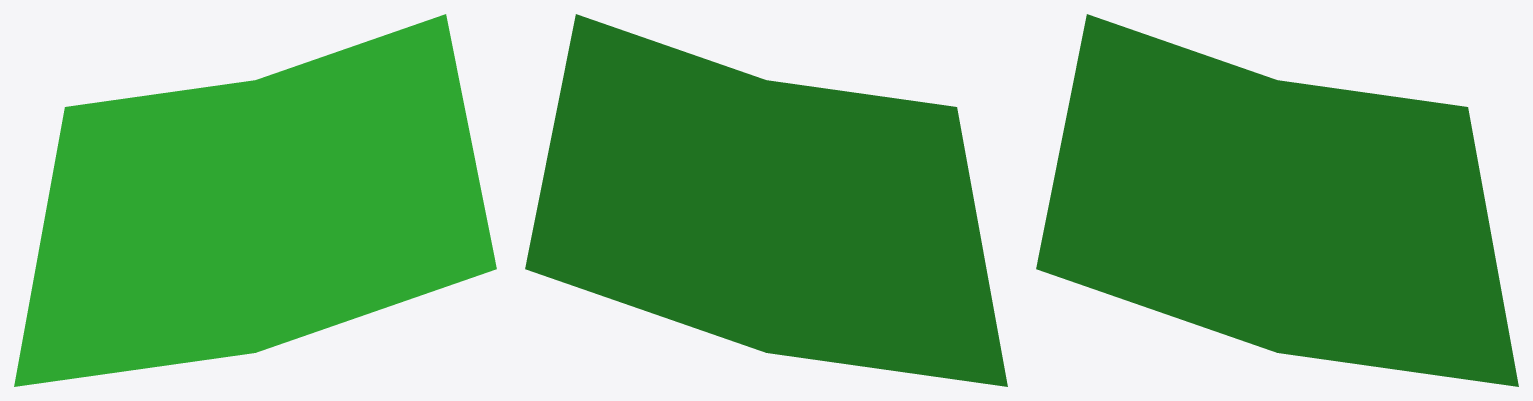
Rendered from Penalty_Short1.fbx.
The picture shows the model from 3 angles, left to right: view 1: azimuth 30°, elevation 25°; view 2: azimuth 150°, elevation 25°; view 3: azimuth 330°, elevation 25°; orthographic projection.
Parts seen in each view (by area): view 1: Cylinder; view 2: Cylinder; view 3: Cylinder.
Part boxes in pixels (x1=…): Cylinder: x1=14, y1=14, x2=496, y2=386; Cylinder: x1=525, y1=14, x2=1007, y2=386; Cylinder: x1=1036, y1=14, x2=1518, y2=386.
Size of the model in its own units: 293 by 169 by 0.
